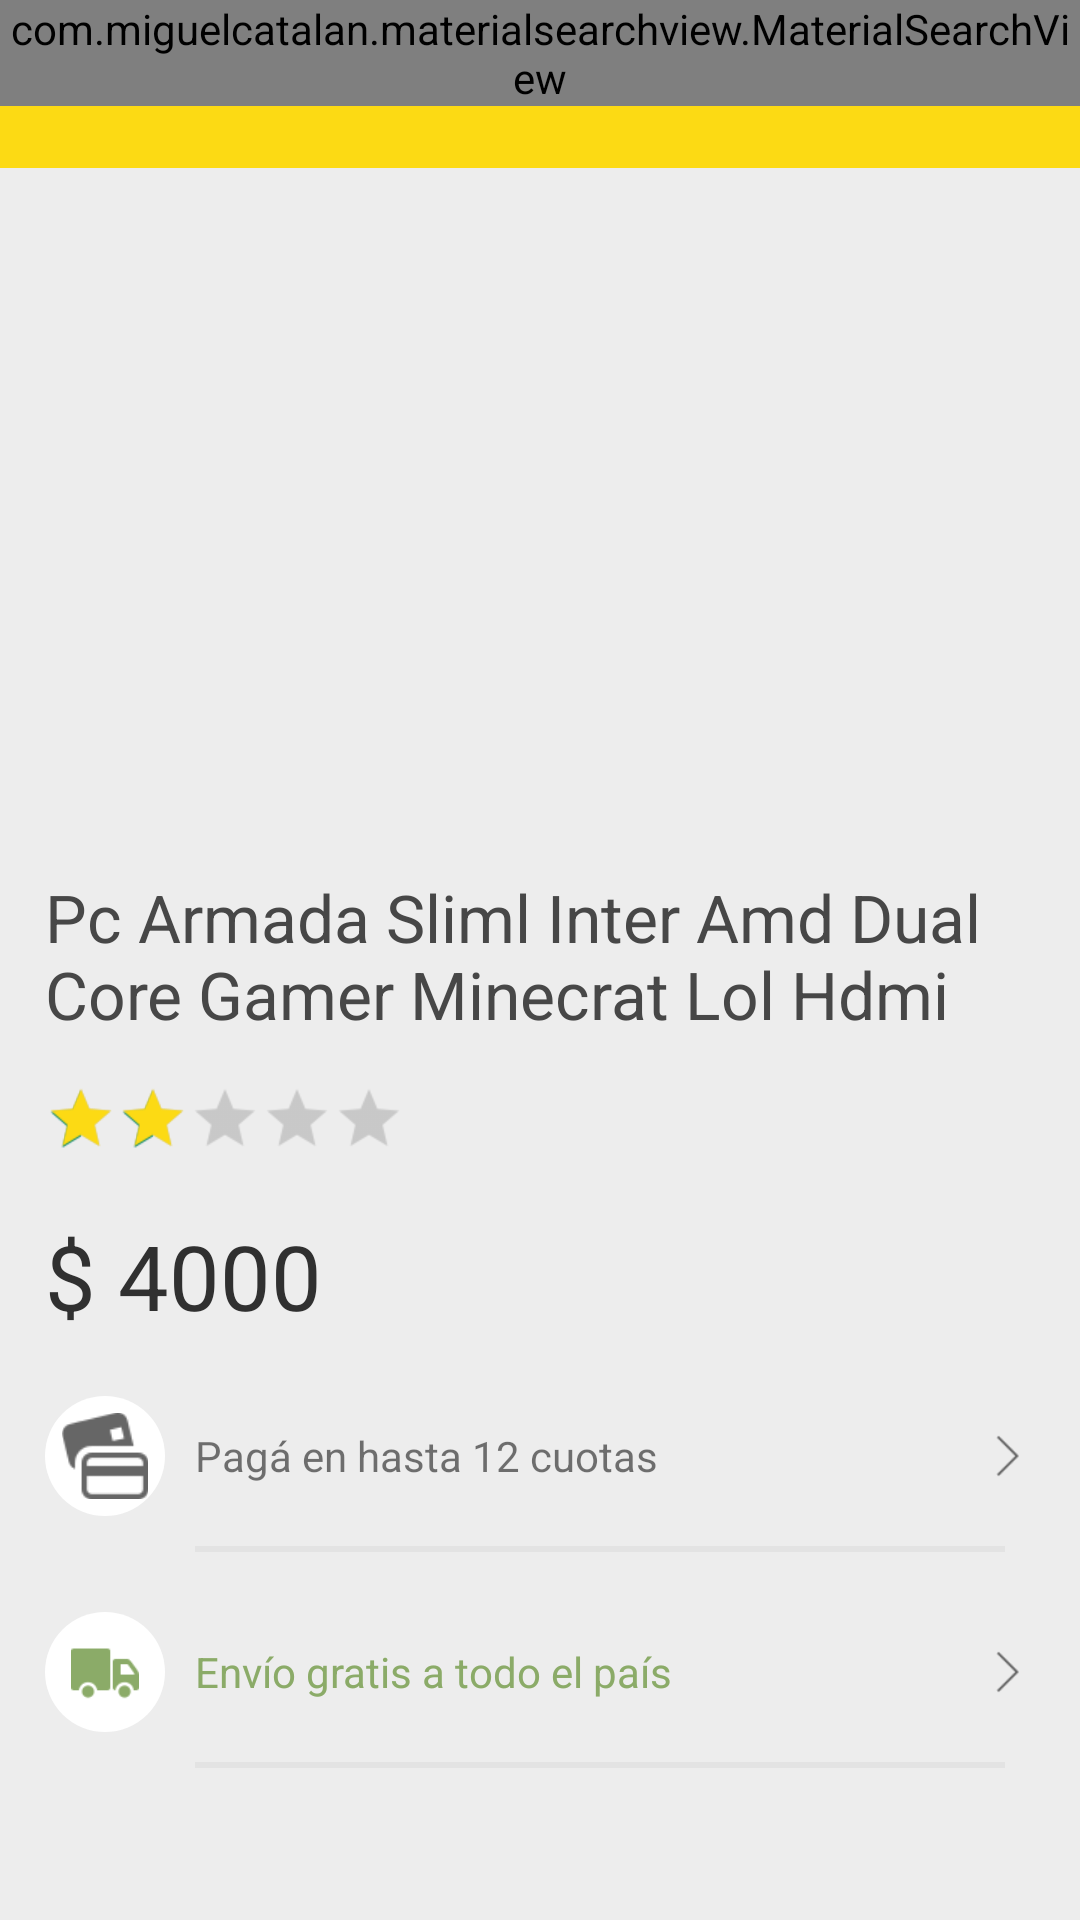

Icons on this 1080×1920 Android screen, each with the point to tap as (x,y):
card: (105,1456)
next: (1008,1456), (1008,1672)
truck: (105,1673)
